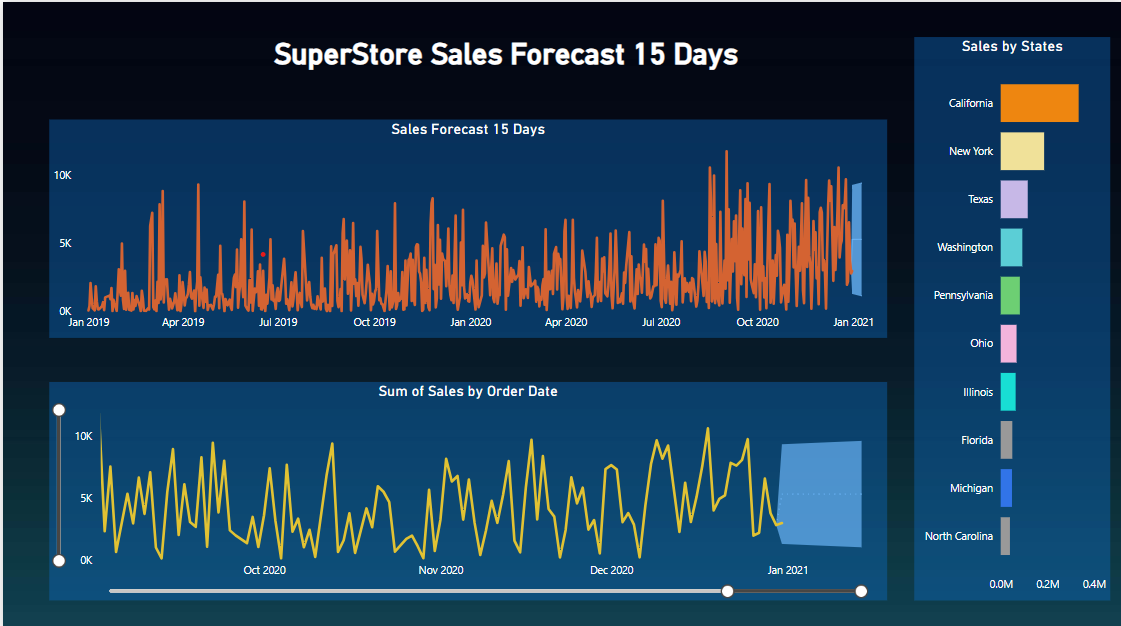

The page's visual inventory and layout, read from the dashboard file:
{"tool":"powerbi","page":{"name":"Page 2","canvas":[1280,720],"ordinal":1},"visuals":[{"type":"lineChart","title":"Sales Forecast 15 Days","fields":{"Category":["Sheet1.Order Date"],"Y":["Sum(Sheet1.Sales)"]},"box":[53.1,133.9,957.6,249.6],"z":0},{"type":"lineChart","fields":{"Category":["Sheet1.Order Date"],"Y":["Sum(Sheet1.Sales)"]},"box":[53.1,434.2,957.6,249.6],"z":1000},{"type":"clusteredBarChart","title":"Sales by States","fields":{"Y":["Sum(Sheet1.Sales)"],"Category":["Sheet1.State"]},"box":[1040.8,39.8,224.3,644],"z":2000},{"type":"textbox","title":"SuperStore Sales Forecast 15 Days","box":[202.6,39.8,744.1,41],"z":3000}]}

Visuals, with their boxes in screenshot pixels (x1, y1, x2, y2), scaled from the page's 1280x720 canvas onto the 1121x626 screenshot:
"Sales Forecast 15 Days" lineChart: box(47, 116, 885, 333)
lineChart - Sheet1.Order Date x Sum(Sheet1.Sales): box(47, 378, 885, 595)
"Sales by States" clusteredBarChart: box(912, 35, 1108, 595)
"SuperStore Sales Forecast 15 Days" textbox: box(177, 35, 829, 70)
